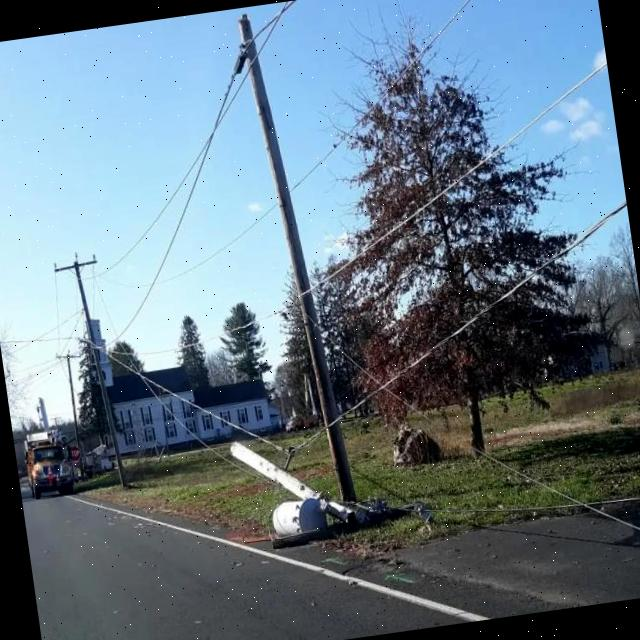Broken Pole: (232, 436, 357, 556)
